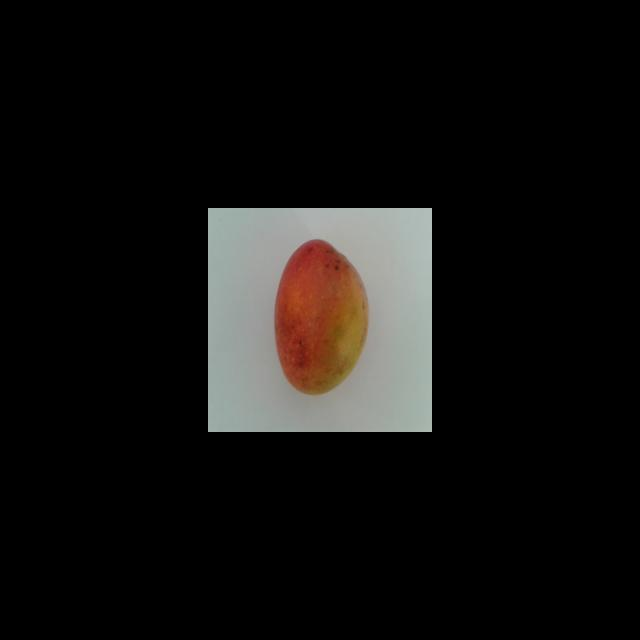Mango: (273, 238, 368, 395)
